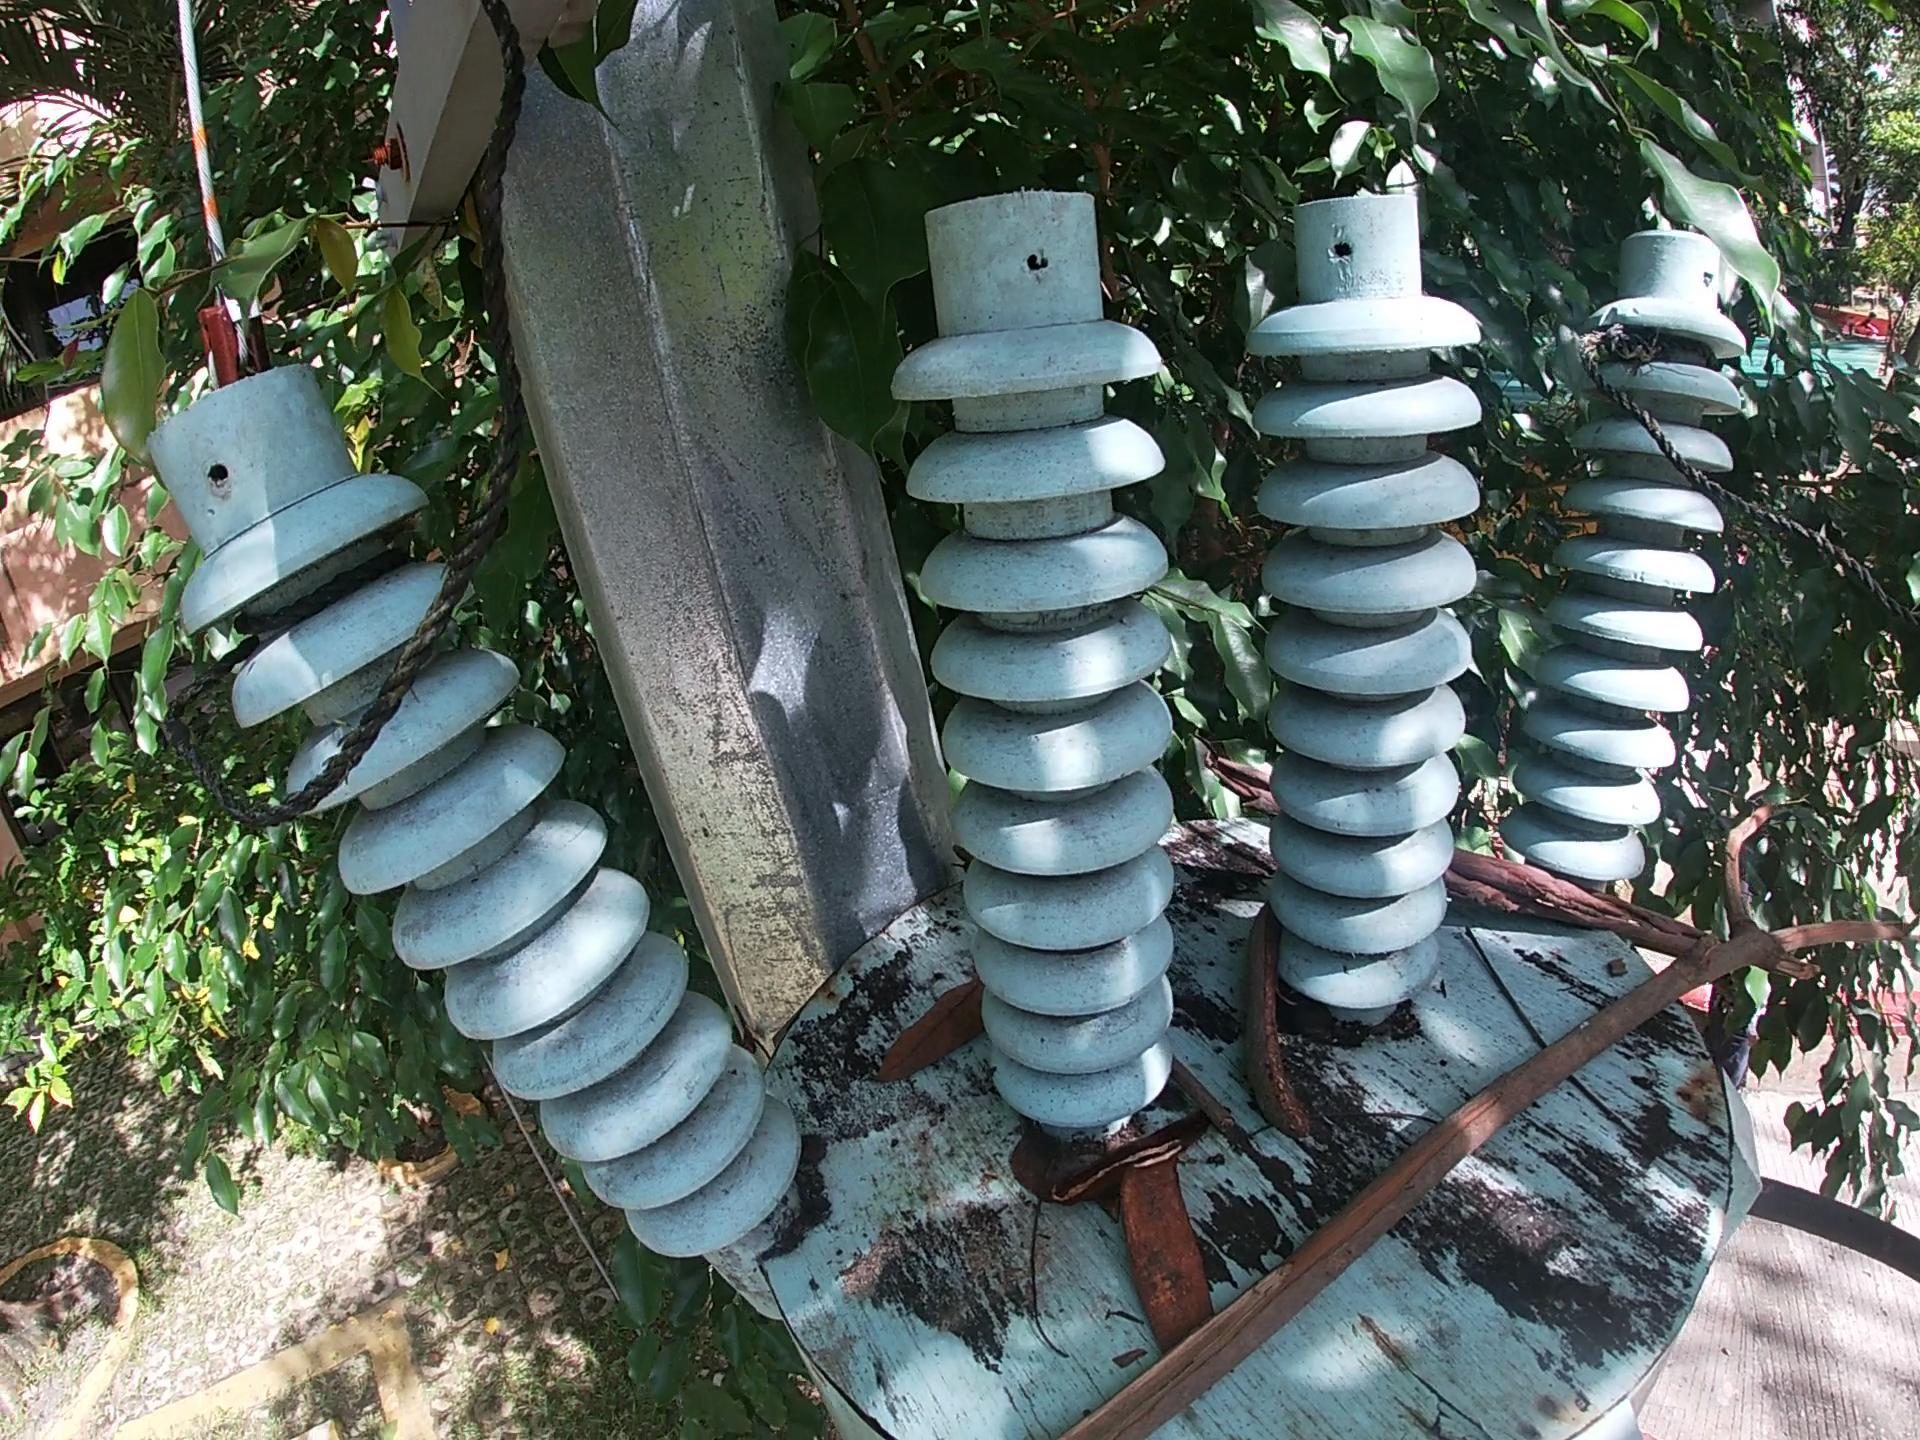leaf: (866, 982, 1005, 1085), (996, 1122, 1082, 1187)
mahogany fruit: (1243, 898, 1330, 1162), (1129, 1147, 1209, 1349)
tree branch: (1020, 805, 1900, 1422), (1468, 926, 1671, 1159), (1444, 852, 1711, 953), (1052, 1122, 1203, 1225), (1169, 1063, 1270, 1145), (1205, 746, 1281, 817)
